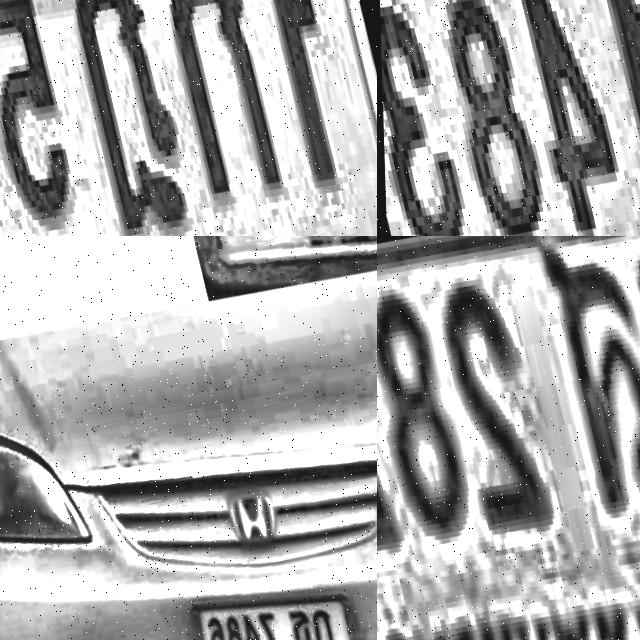license-plate: (377, 236, 640, 640), (0, 0, 377, 236), (377, 0, 640, 236), (170, 562, 374, 640), (173, 236, 377, 302)
